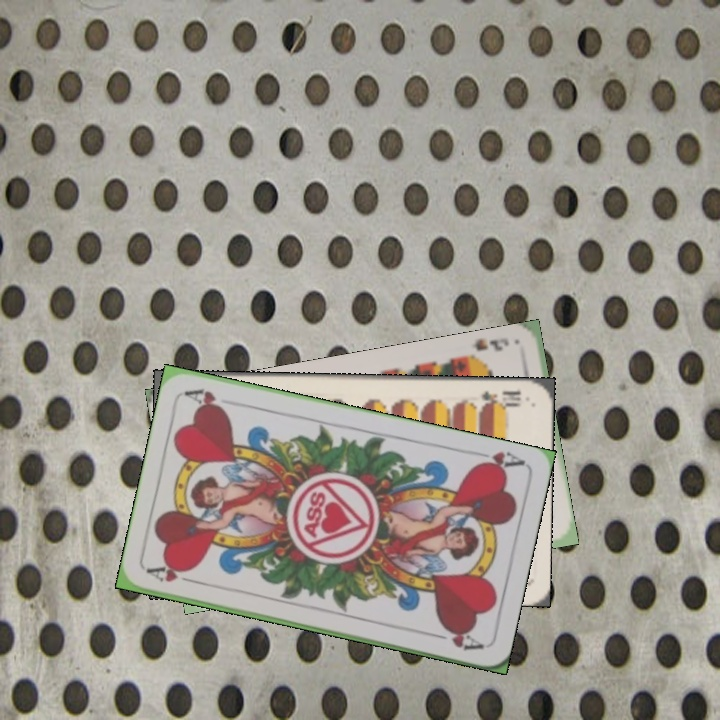E10: (477, 386, 524, 411)
HA: (467, 447, 527, 475), (144, 562, 203, 587)
S9: (465, 334, 511, 364)
